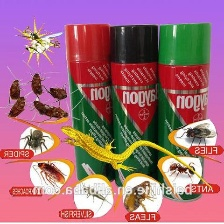aerosol_cans: (154, 21, 216, 203), (106, 22, 163, 192), (61, 19, 117, 187)
